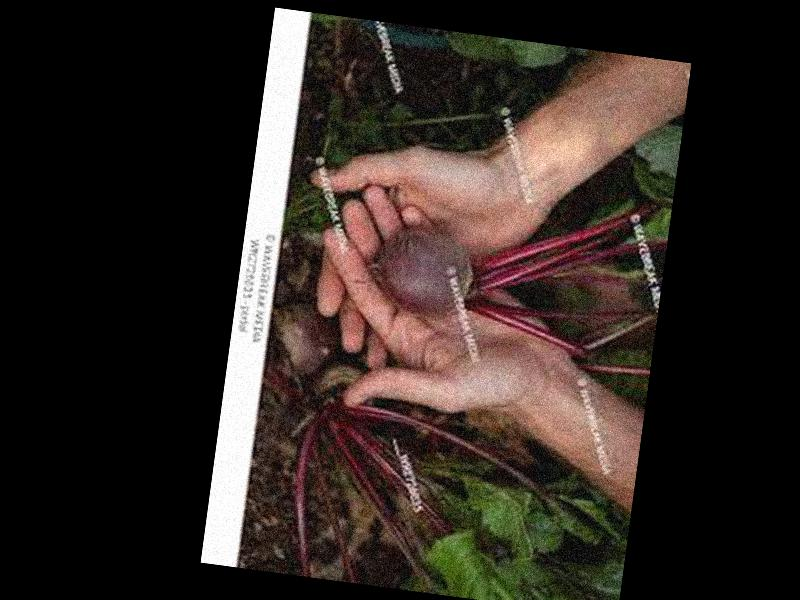Beet: (359, 161, 663, 366)
